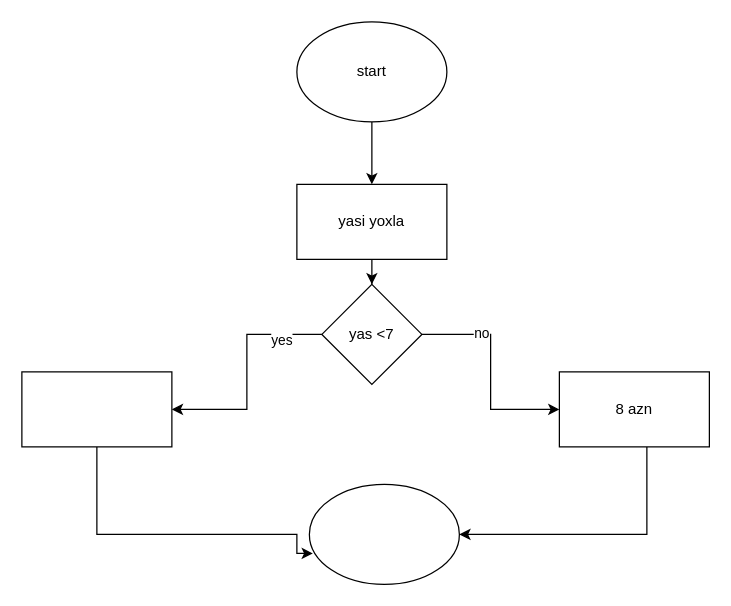
Some shapes in this 731 by 606 pixel diagram are drawn without their labels. Each missing label, with the centre of its shape:
end: [383,533]
free: [96,409]
